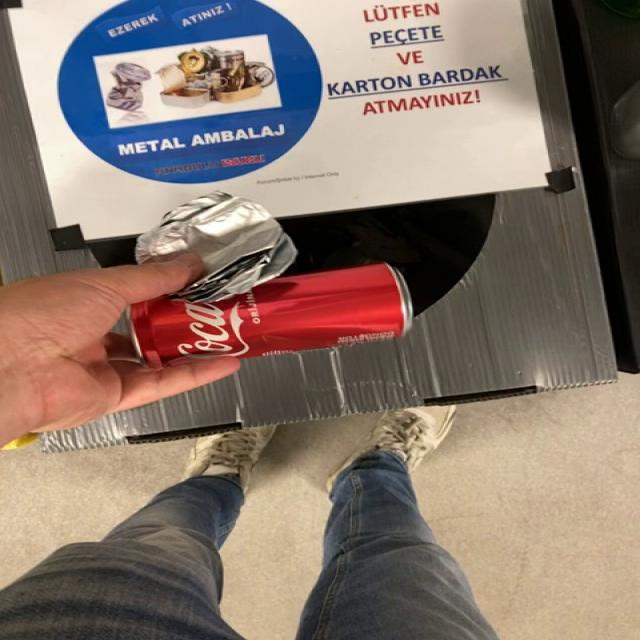bin: (0, 0, 617, 453)
metal: (129, 263, 413, 368)
